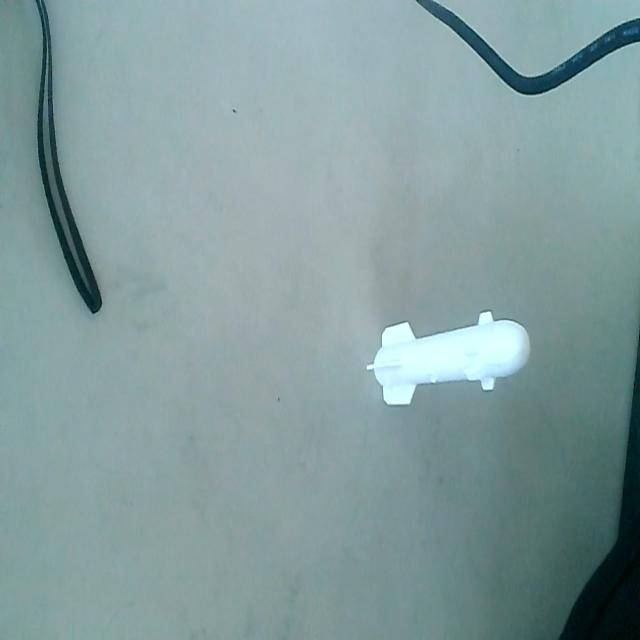Rocket: (360, 312, 535, 409)
